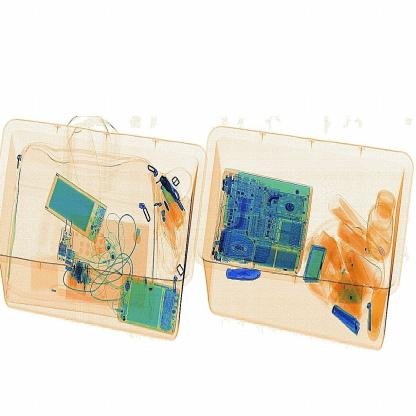knife: (221, 259, 270, 293)
